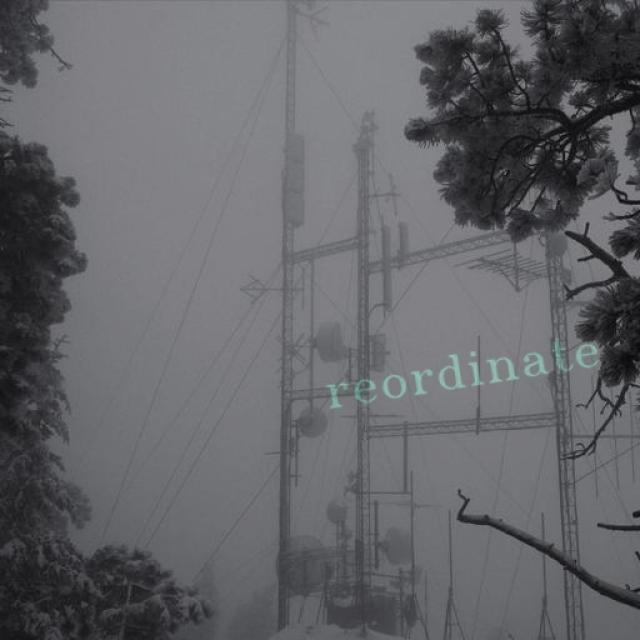watermark: (315, 328, 603, 416)
